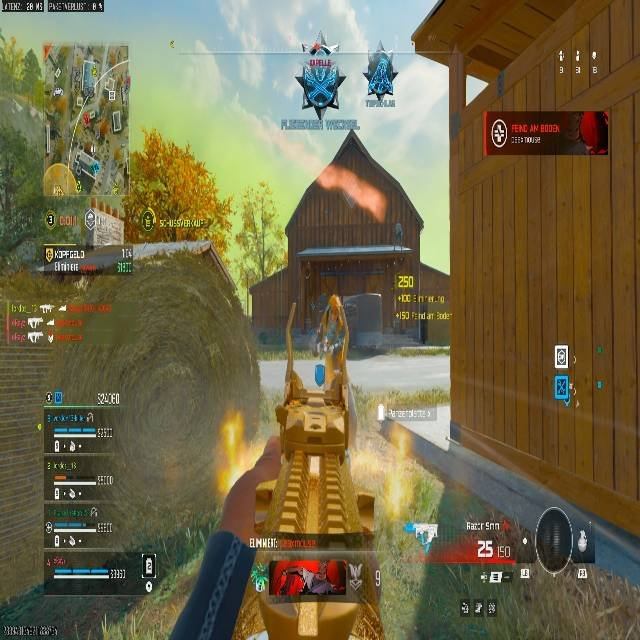player: (294, 44, 346, 119), (364, 50, 396, 104)
